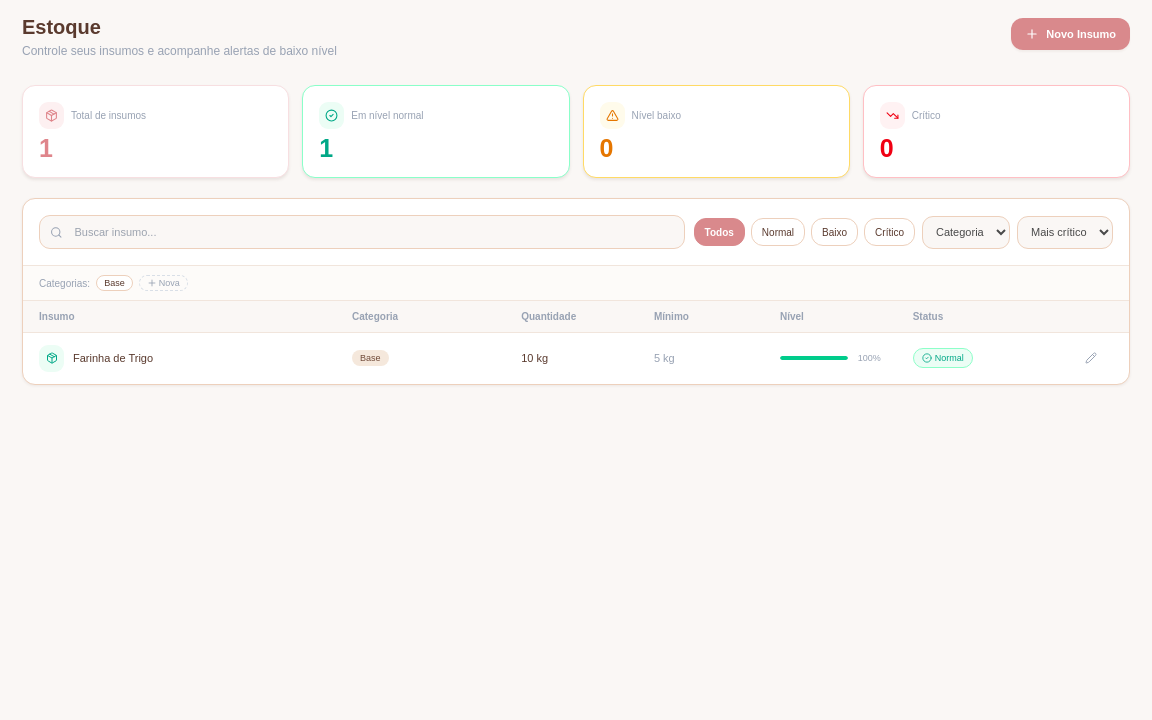
Scenario: Estoque - exclusão com movimentações › sugere inativar quando a mensagem do servidor orienta isso
This screenshot has width=1152, height=720.
Check: the text "Farinha de Trigo" is shown, box [39,345,153,372]
Click the button named "Editar Farinha de Trigo". click: (1091, 358)
box: [1079,344,1103,372]
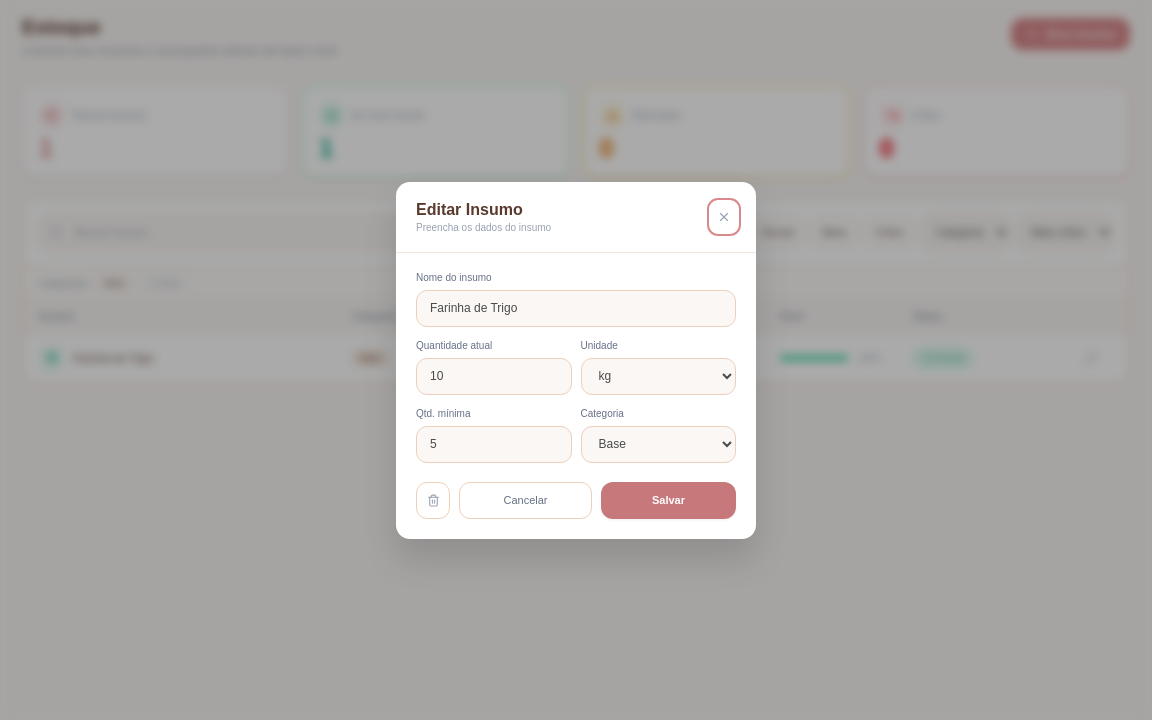
Click the button named "Excluir insumo". click: (433, 500)
box: [416,482,450,518]
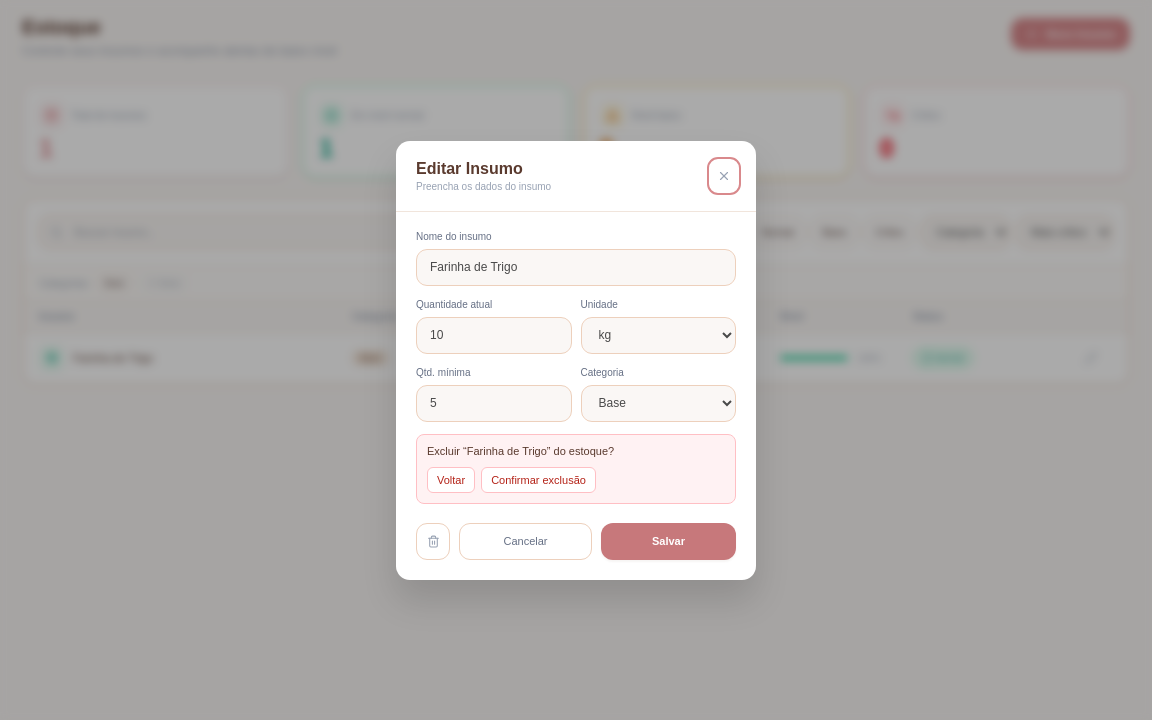
Click the button "Confirmar exclusão". click: (538, 480)
box: [481,466,596,492]
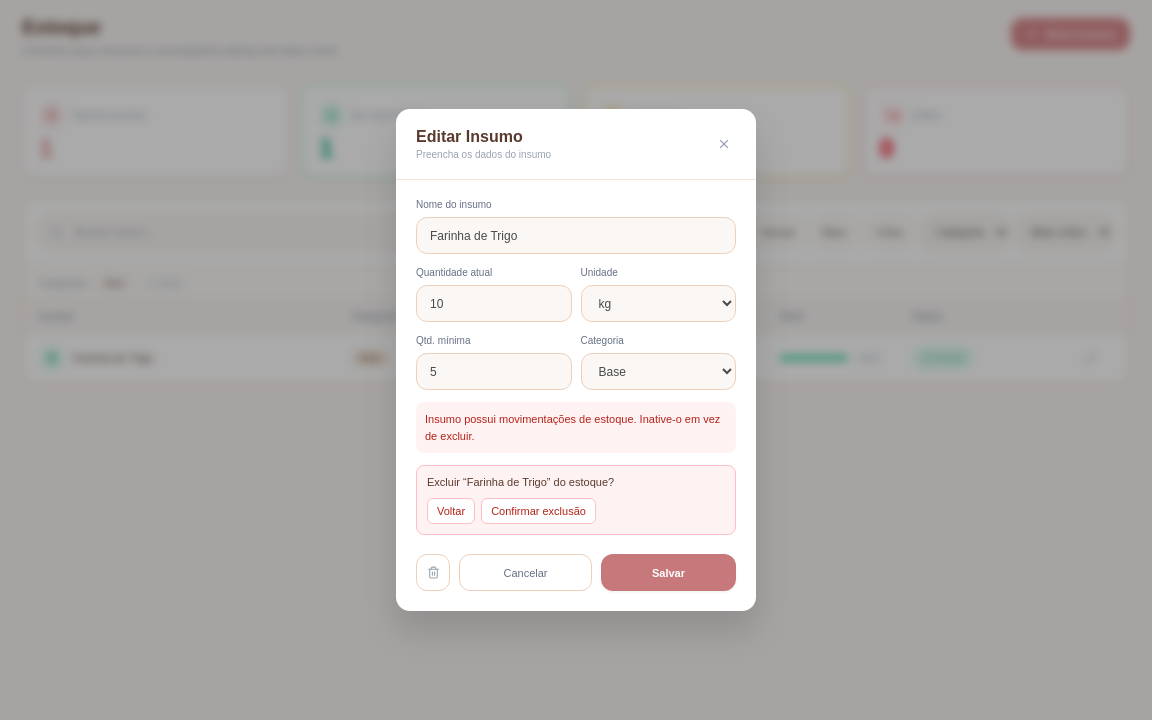
Check: the text "Insumo possui movimentações de estoque. Inative-o em vez de excluir." is shown, box [416,402,736,453]
